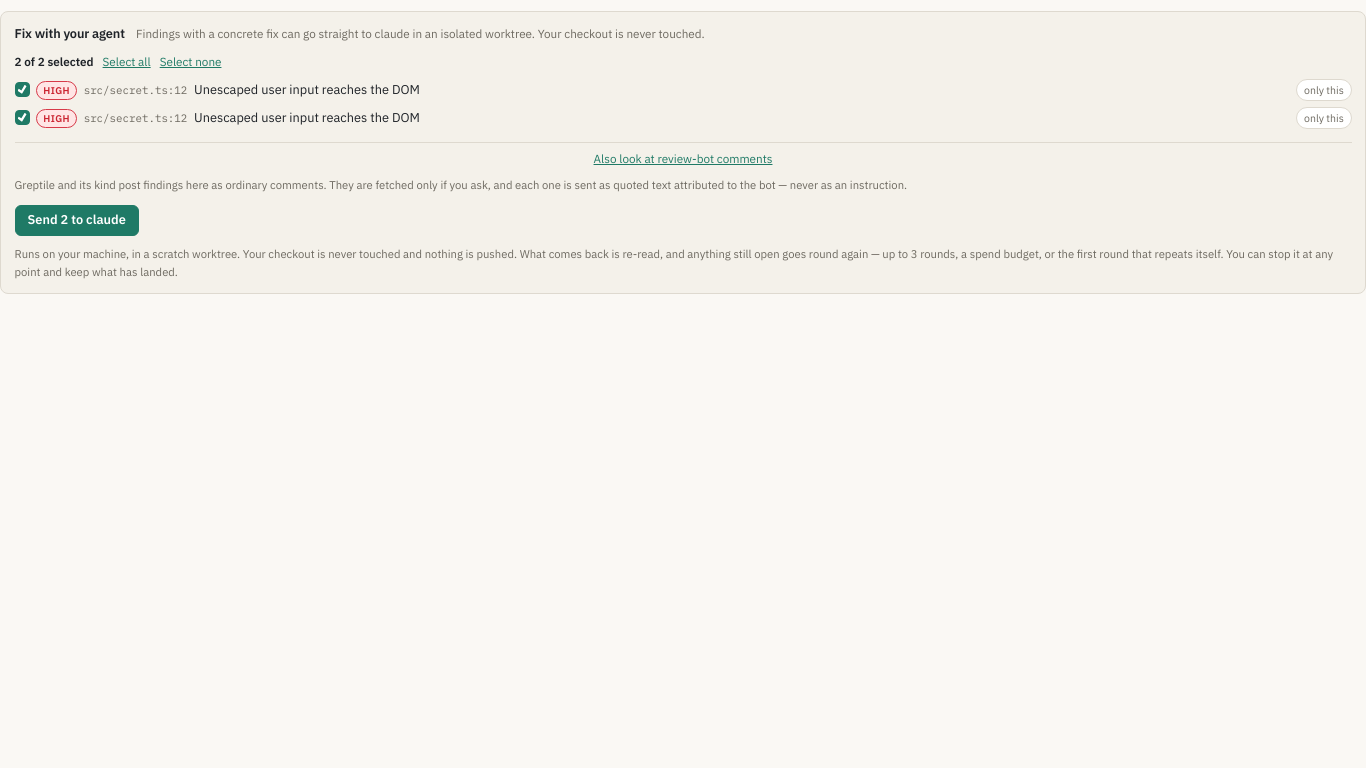
Test case: AgentFixPanel analytics › reports the outcome as counts + enums — no commit, intent, path or diff
Click the button with test id "agent-fix-send": coordinates (77, 221) [14,205,139,236]
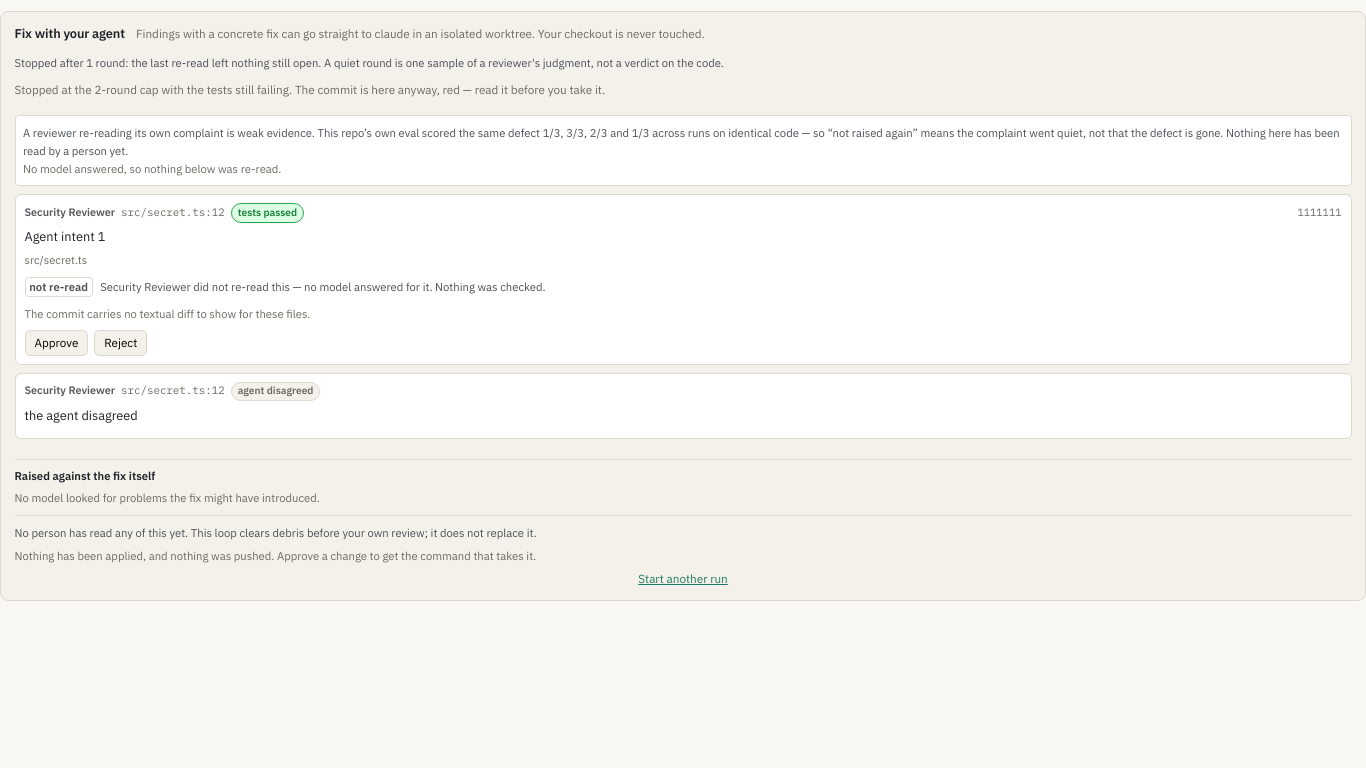
Check: the element with test id "agent-fix-result" is shown, box [14,194,1352,365]
